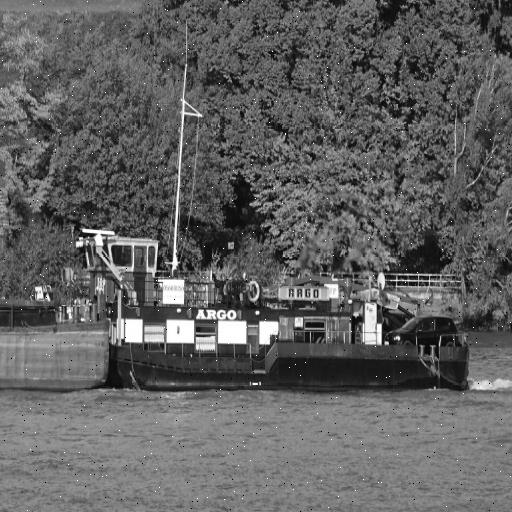tugboat: (53, 220, 479, 404)
